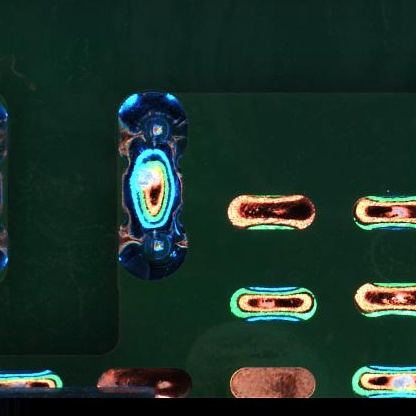spot: (115, 91, 190, 161), (116, 217, 190, 279)
